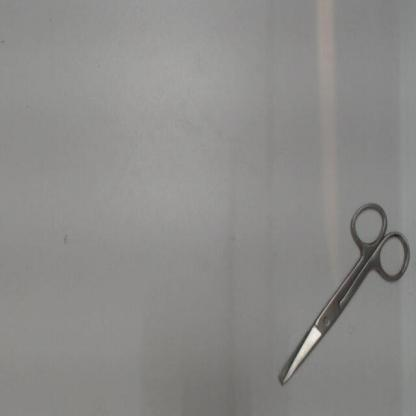Dressing Scissors: (272, 191, 415, 397)
